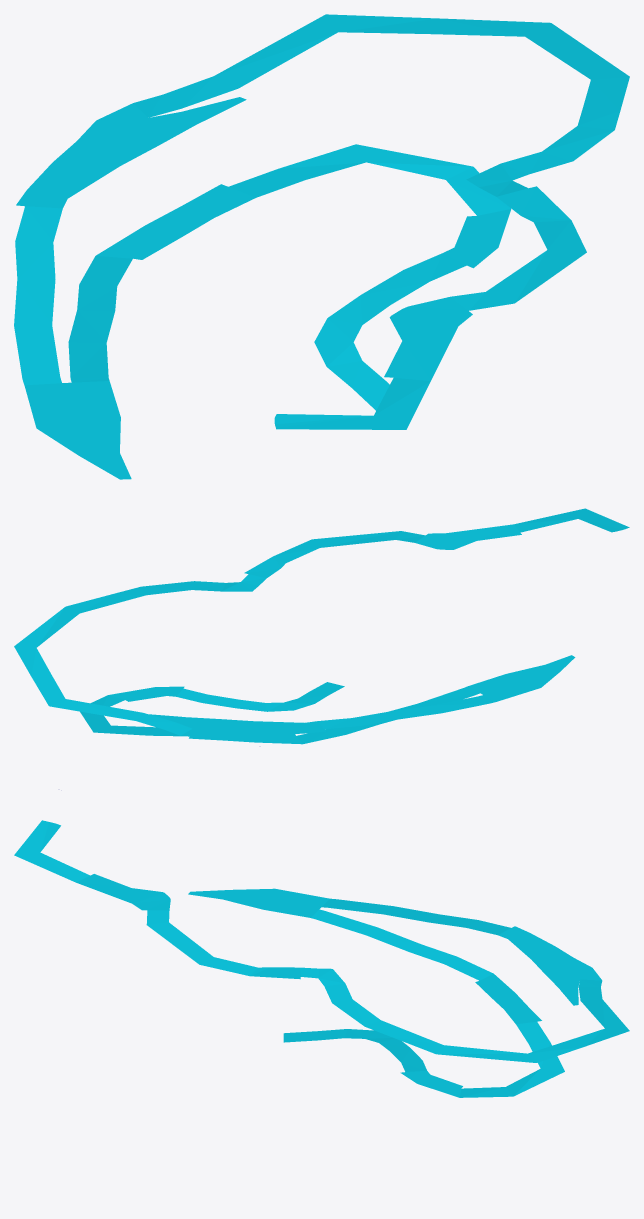
Rendered from NoLod_8.glb.
3 renders of one model, top to bottom at view 1: azimuth 30°, elevation 25°; view 2: azimuth 150°, elevation 25°; view 3: azimuth 270°, elevation 25°, orthographic. The views are drawn at different scales.
Visible parts, largest first — view 1: rtc; view 2: rtc; view 3: rtc.
Boxes of the visible parts, x1=… form: rtc: x1=14, y1=14, x2=629, y2=479; rtc: x1=14, y1=508, x2=629, y2=744; rtc: x1=14, y1=820, x2=629, y2=1097.
Size of the model in its own units: 448 by 201 by 557.
